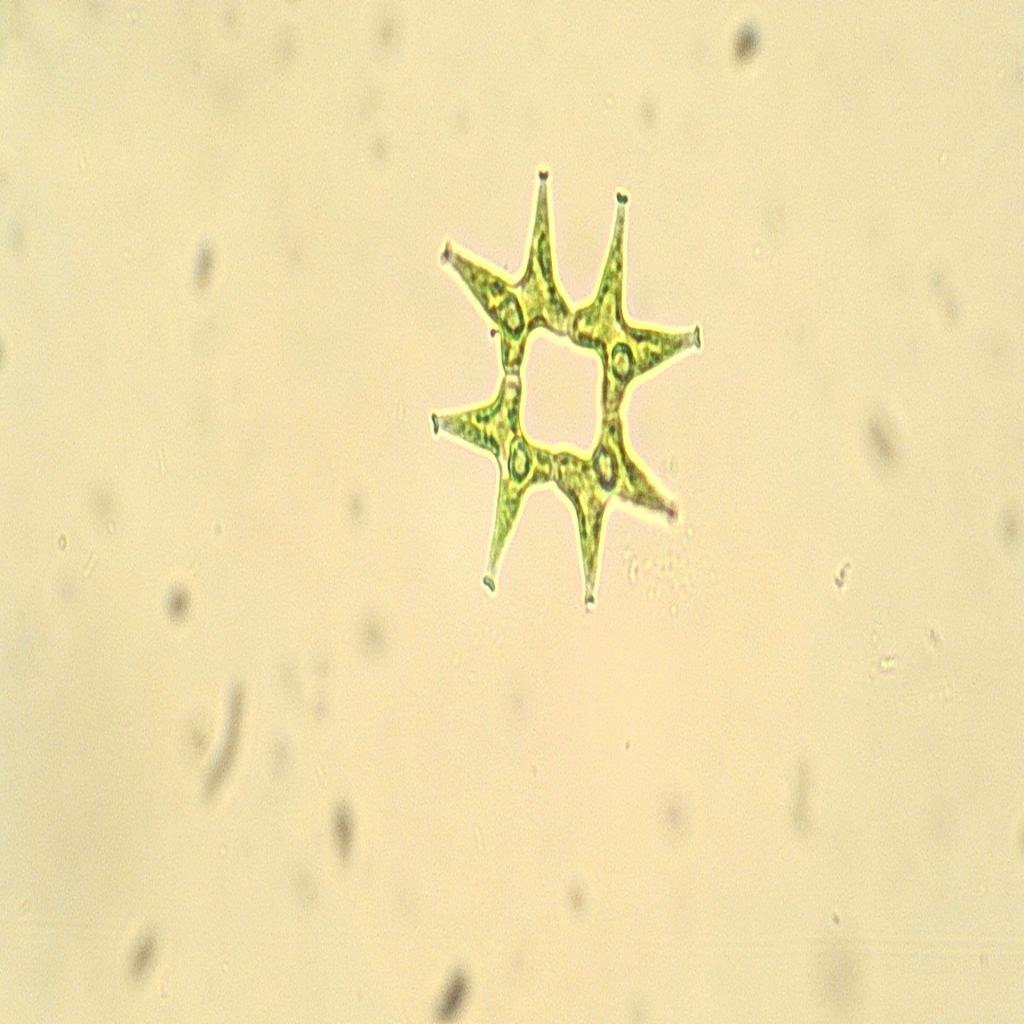Pediastrum_CO: (414, 156, 708, 653)
